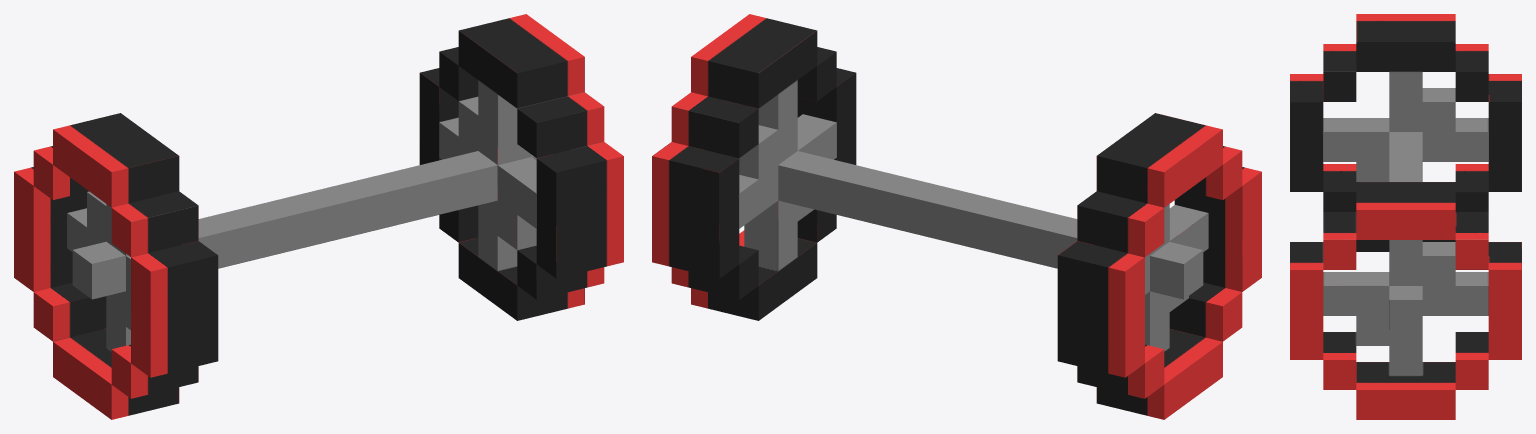
Rendered from Tractor_2_Rim_2.obj.
3 views of the same model, side by side, from view 1: azimuth 30°, elevation 25°; view 2: azimuth 150°, elevation 25°; view 3: azimuth 270°, elevation 25° (orthographic). The views are drawn at different scales.
Parts seen in each view (by area): view 1: Tractor_2_Rim_2_Tractor_2_Rim_2.001; view 2: Tractor_2_Rim_2_Tractor_2_Rim_2.001; view 3: Tractor_2_Rim_2_Tractor_2_Rim_2.001.
Boxes of the visible parts, x1,y1,x2,y2 form: Tractor_2_Rim_2_Tractor_2_Rim_2.001: (14,14,623,419); Tractor_2_Rim_2_Tractor_2_Rim_2.001: (652,14,1261,419); Tractor_2_Rim_2_Tractor_2_Rim_2.001: (1290,14,1521,419).
Size of the model in its own units: 2.8 by 1.4 by 1.4.
